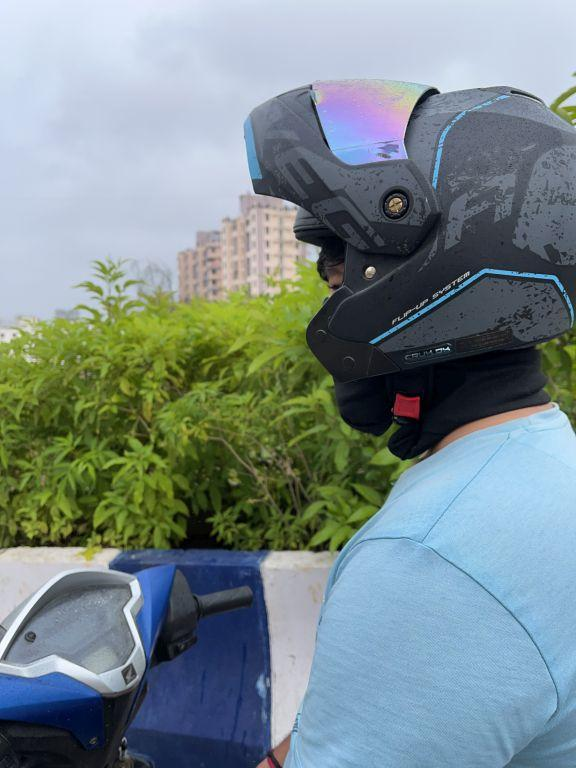helmet: (230, 70, 576, 422)
